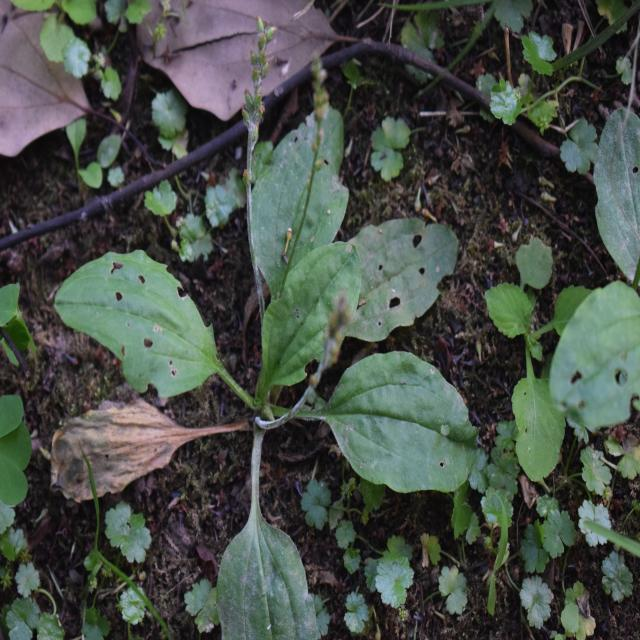plantain: (76, 117, 448, 583)
